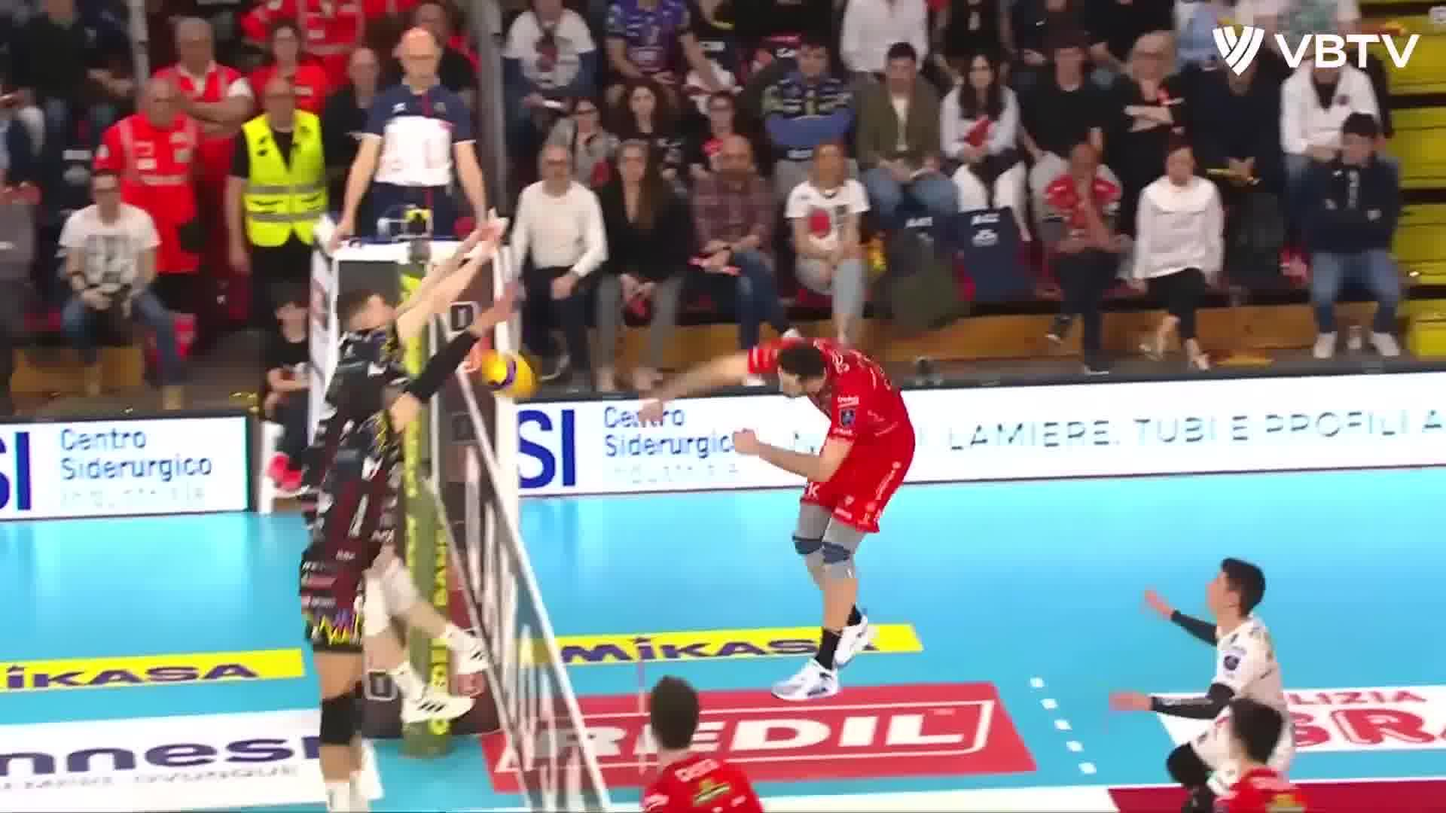balls: (480, 352, 540, 399)
